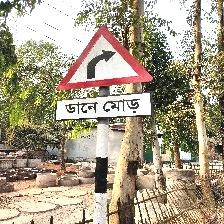Right-turn: (54, 24, 154, 123)
